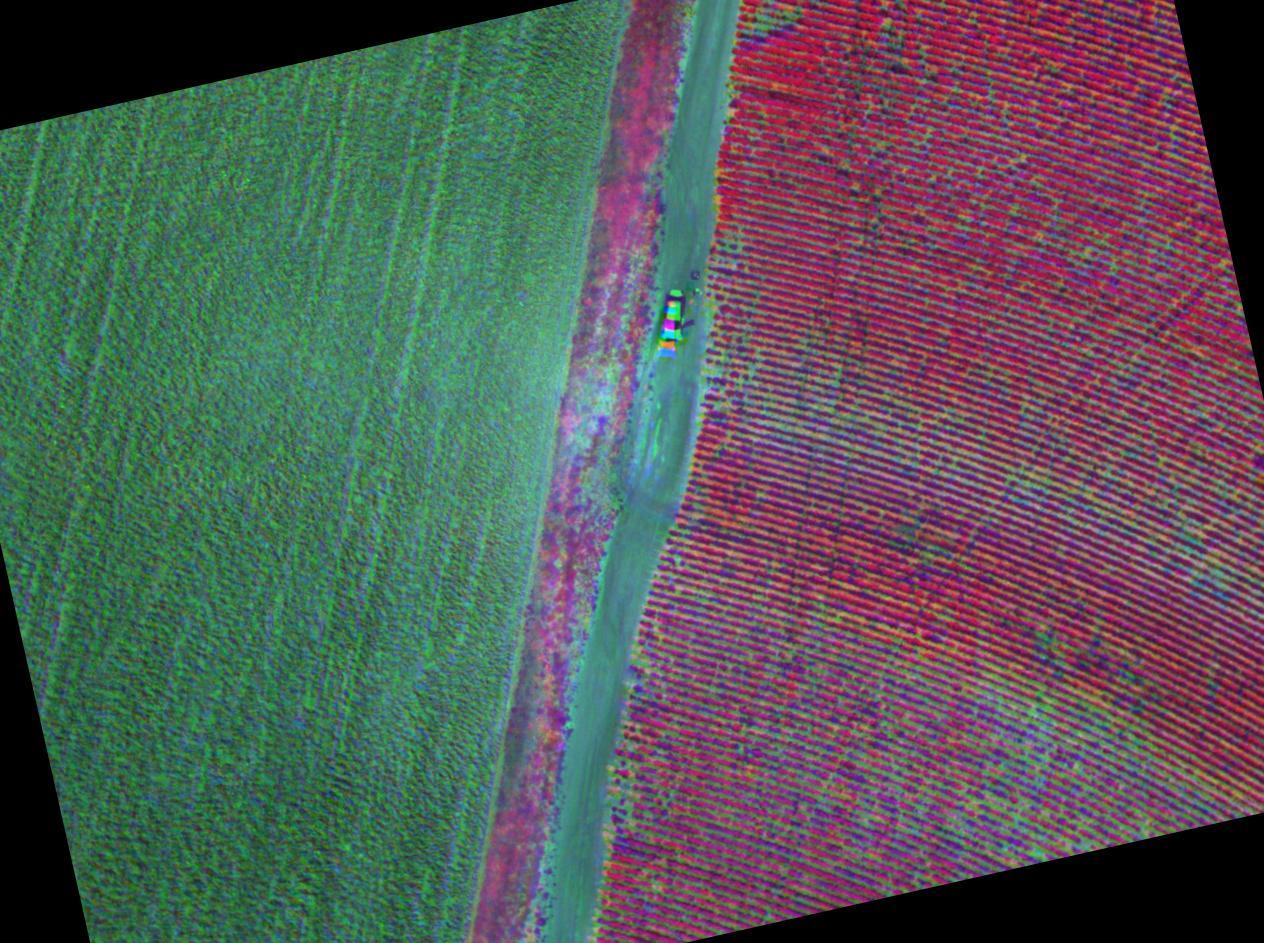dc: (710, 367, 715, 373), (1045, 705, 1050, 710), (1074, 768, 1079, 771), (1008, 477, 1012, 480), (821, 625, 825, 628)
